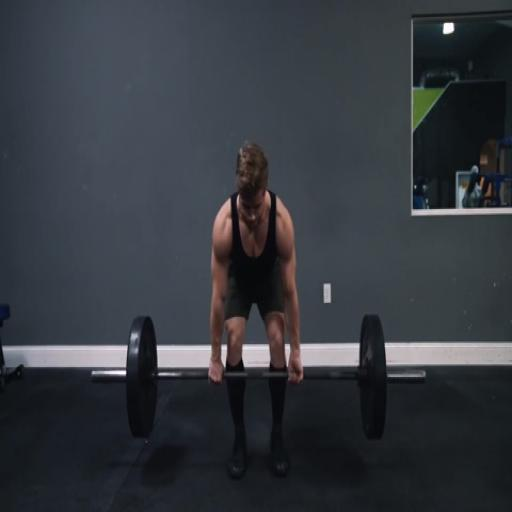exercise: (205, 140, 306, 482)
